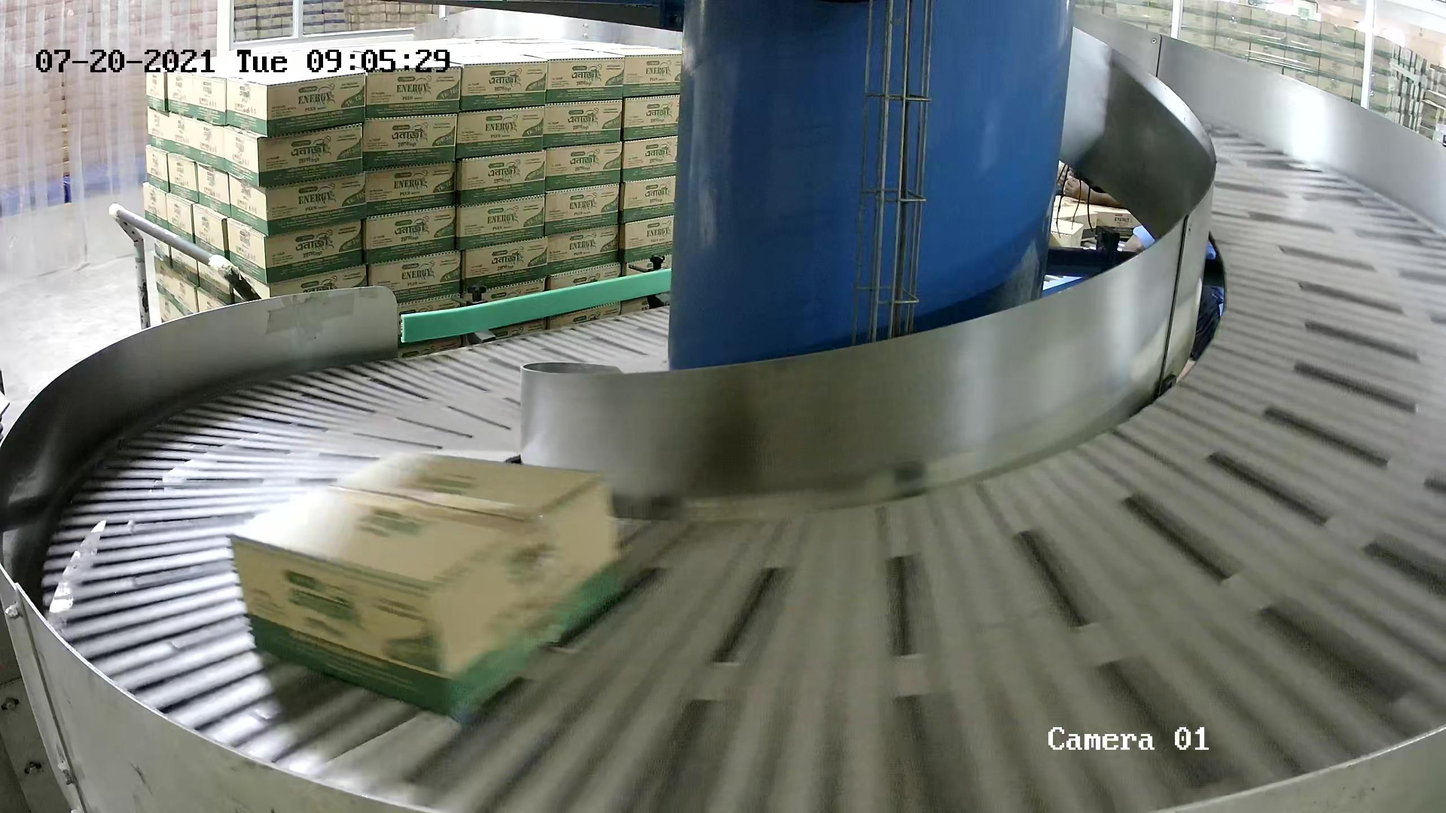Box: (226, 448, 626, 717)
